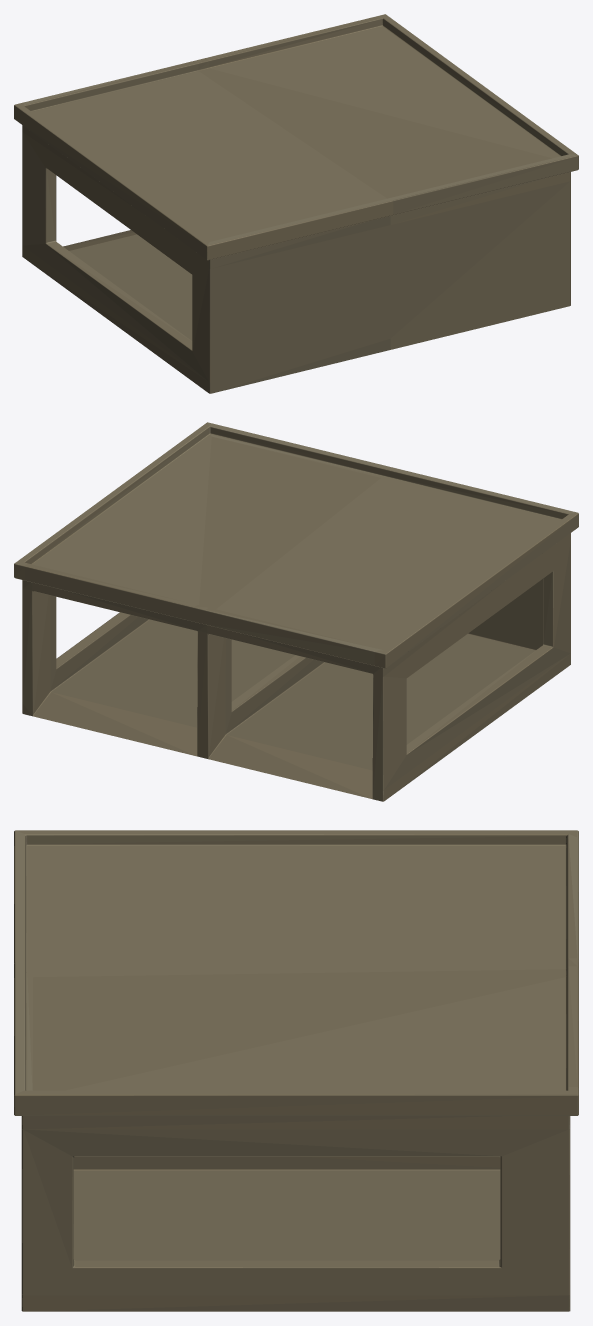
File: base-garage.glb
The picture shows the model from 3 angles, top to bottom: view 1: azimuth 30°, elevation 25°; view 2: azimuth 150°, elevation 25°; view 3: azimuth 270°, elevation 25°; orthographic projection. The views are drawn at different scales.
Parts seen in each view (by area): view 1: body; view 2: body; view 3: body.
Boxes of the visible parts, x1,y1,x2,y2 form: body: [14, 14, 578, 393]; body: [14, 422, 578, 801]; body: [14, 830, 578, 1311].
Size of the model in its own units: 10.3 by 4 by 9.27.
